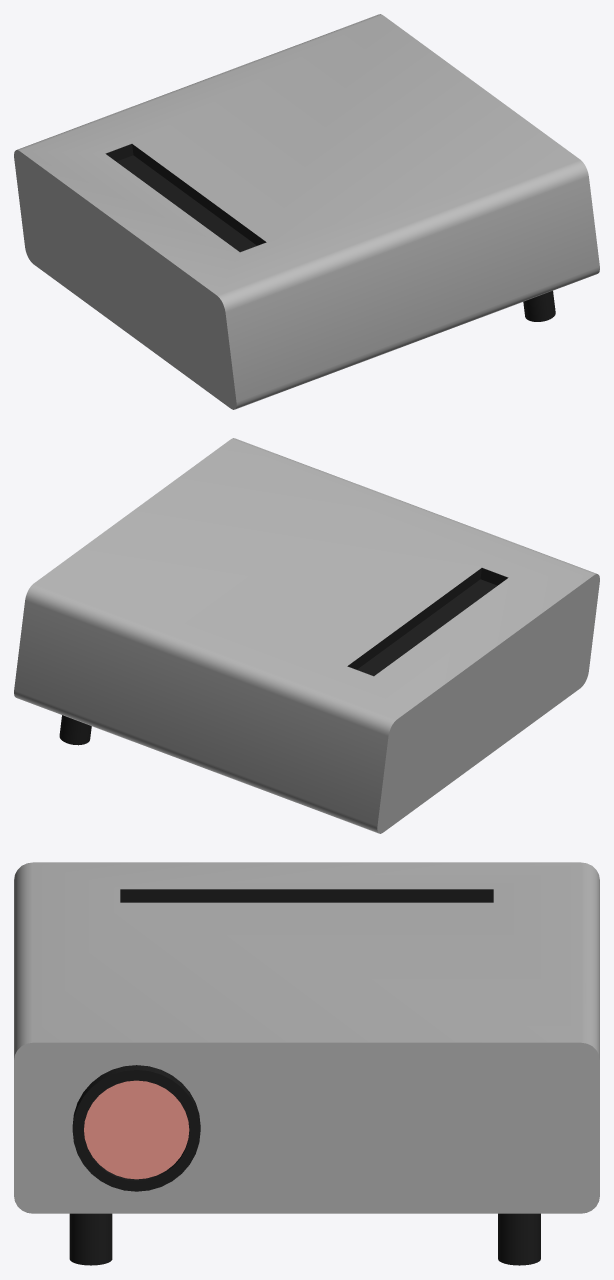
The model's file is Projektor.glb.
3 renders of one model, top to bottom at view 1: azimuth 30°, elevation 25°; view 2: azimuth 150°, elevation 25°; view 3: azimuth 270°, elevation 25°, orthographic. The views are drawn at different scales.
Visible parts, largest first — view 1: Cube; view 2: Cube; view 3: Cube.
Part boxes in pixels (x1,y1,x2,y2): Cube: (14,14,599,409); Cube: (14,438,599,833); Cube: (14,862,599,1265).
Size of the model in its own units: 0.2707 by 0.1123 by 0.2576.
